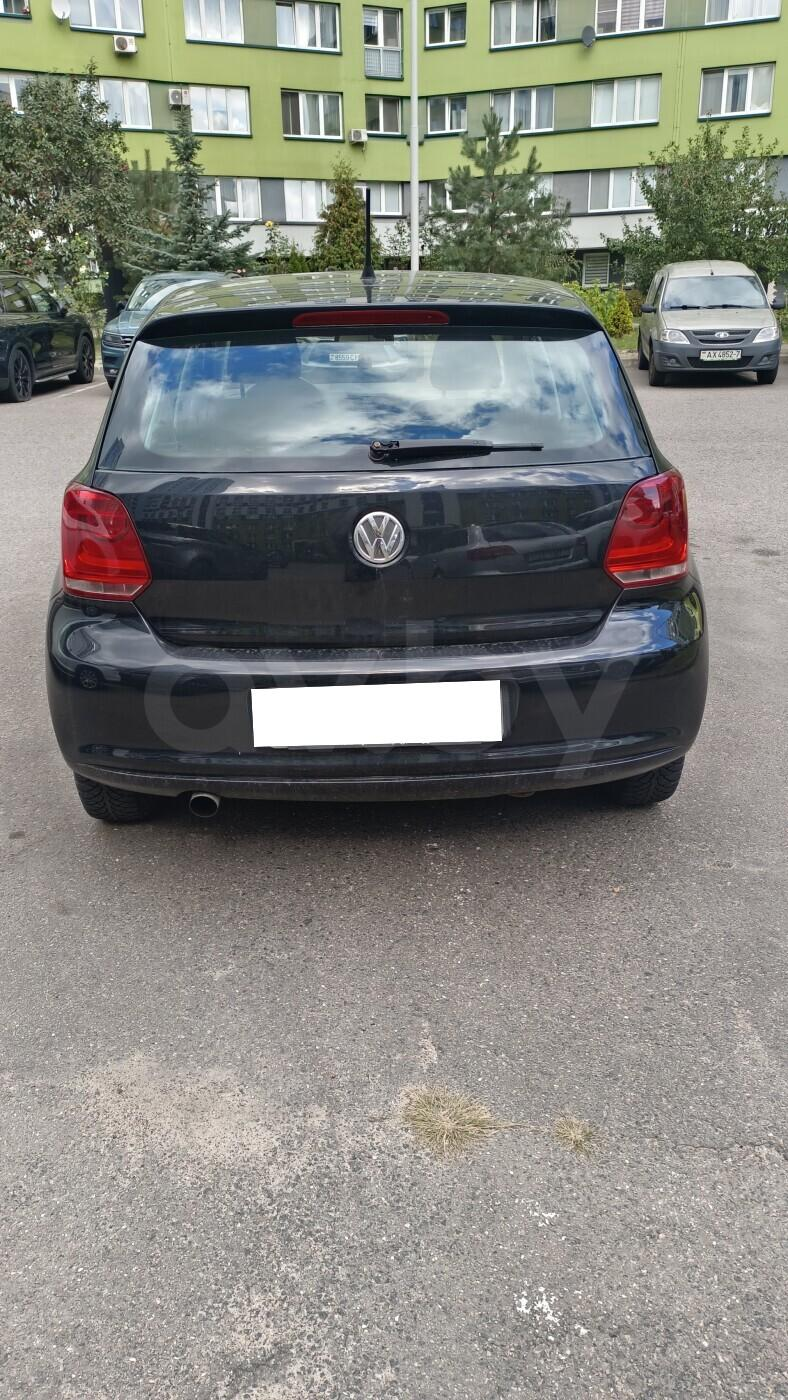Polo_2009-2015: (52, 252, 720, 834)
